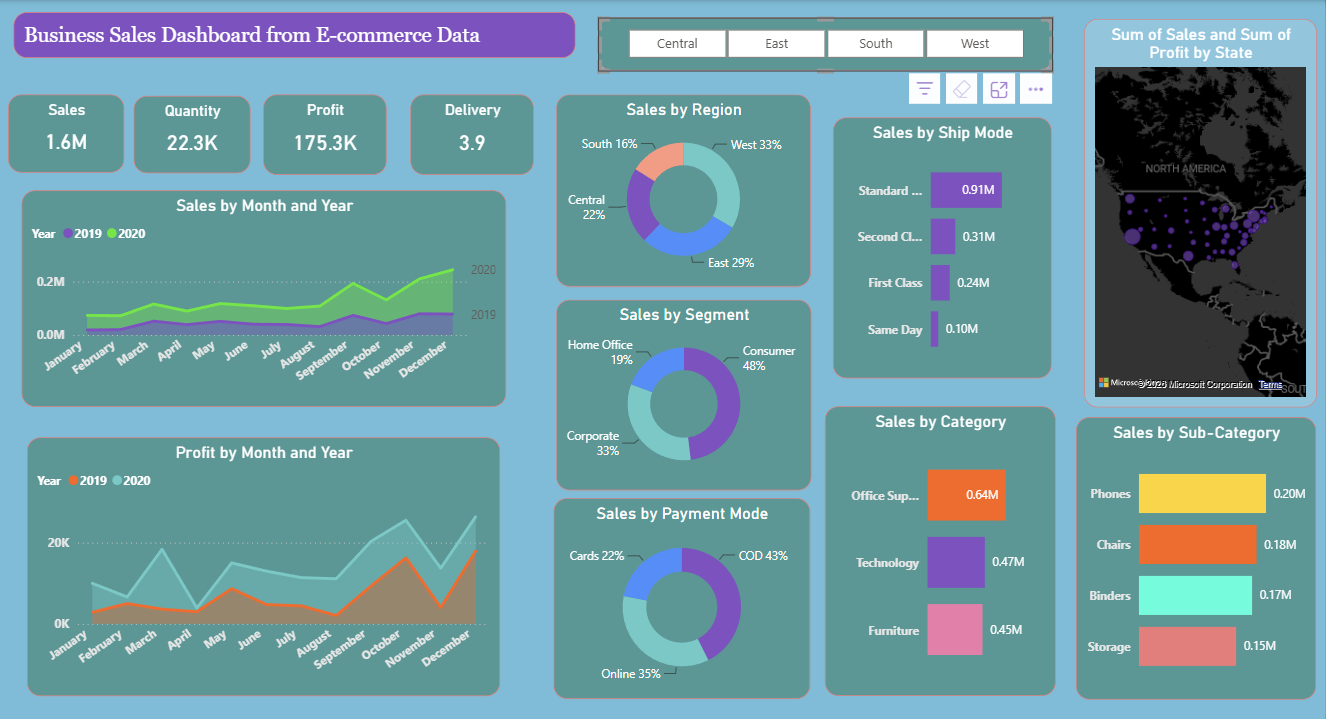

The dashboard page shown, as its layout file describes it:
{"tool":"powerbi","page":{"name":"Page 1","canvas":[1369,747],"ordinal":0},"visuals":[{"type":"clusteredBarChart","title":" Sales by Category","fields":{"Category":["SuperStore_Sales_Dataset.Category"],"Y":["Sum(SuperStore_Sales_Dataset.Sales)"]},"box":[852.5,420.1,238.3,299.3],"z":0},{"type":"clusteredBarChart","title":" Sales by Sub-Category","fields":{"Category":["SuperStore_Sales_Dataset.Sub-Category"],"Y":["Sum(SuperStore_Sales_Dataset.Sales)"]},"box":[1111.9,431.2,248.3,291.5],"z":1000},{"type":"stackedAreaChart","title":" Profit by Month and Year","fields":{"Category":["SuperStore_Sales_Dataset.Order Date.Variation.Date Hierarchy.Month","SuperStore_Sales_Dataset.Order Date.Variation.Date Hierarchy.Day"],"Series":["SuperStore_Sales_Dataset.Order Date.Variation.Date Hierarchy.Year"],"Y":["Sum(SuperStore_Sales_Dataset.Profit)"]},"box":[27.7,452.3,488.9,267.2],"z":2000},{"type":"stackedAreaChart","title":"Sales by Month and Year","fields":{"Y":["Sum(SuperStore_Sales_Dataset.Sales)"],"Category":["SuperStore_Sales_Dataset.Order Date.Variation.Date Hierarchy.Month","SuperStore_Sales_Dataset.Order Date.Variation.Date Hierarchy.Day"],"Series":["SuperStore_Sales_Dataset.Order Date.Variation.Date Hierarchy.Year"]},"box":[22.2,197.3,501.1,223.9],"z":3000},{"type":"map","fields":{"Category":["SuperStore_Sales_Dataset.State"],"Size":["Sum(SuperStore_Sales_Dataset.Sales)"]},"box":[1119.6,18.8,240.6,401.3],"z":4000},{"type":"clusteredBarChart","title":" Sales by Ship Mode","fields":{"Category":["SuperStore_Sales_Dataset.Ship Mode"],"Y":["Sum(SuperStore_Sales_Dataset.Sales)"]},"box":[861.3,120.8,226.1,269.4],"z":5000},{"type":"donutChart","title":" Sales by Segment","fields":{"Category":["SuperStore_Sales_Dataset.Segment"],"Y":["Sum(SuperStore_Sales_Dataset.Sales)"]},"box":[574.2,309.3,263.8,197.3],"z":6000},{"type":"donutChart","title":" Sales by Payment Mode","fields":{"Category":["SuperStore_Sales_Dataset.Payment Mode"],"Y":["Sum(SuperStore_Sales_Dataset.Sales)"]},"box":[572,515.5,264.9,207.3],"z":7000},{"type":"slicer","fields":{"Values":["SuperStore_Sales_Dataset.Region"]},"box":[617.9,18.7,469.6,54.8],"z":8000},{"type":"textbox","box":[13.7,12.5,580.5,47.3],"z":9000},{"type":"card","title":"Sales","fields":{"Values":["Sum(SuperStore_Sales_Dataset.Sales)"]},"box":[8.9,97.6,119.7,80.9],"z":10000},{"type":"card","title":"Profit","fields":{"Values":["Sum(SuperStore_Sales_Dataset.Profit)"]},"box":[272.7,97.6,127.5,83.1],"z":11000},{"type":"card","title":"Quantity","fields":{"Values":["Sum(SuperStore_Sales_Dataset.Quantity)"]},"box":[138.6,98.7,120.8,79.8],"z":12000},{"type":"card","title":"Delivery","fields":{"Values":["Avg(SuperStore_Sales_Dataset.AvgDelivery)"]},"box":[424.6,97.6,127.5,83.1],"z":13000},{"type":"donutChart","title":" Sales by Region","fields":{"Category":["SuperStore_Sales_Dataset.Region"],"Y":["Sum(SuperStore_Sales_Dataset.Sales)"]},"box":[574.2,97.6,262.7,198.4],"z":14000}]}

Visuals, with their boxes in screenshot pixels (x1, y1, x2, y2), scaled from the page's 1369x747 canvas onto the 1326x719 screenshot:
" Sales by Category" clusteredBarChart: x1=826, y1=404, x2=1057, y2=692
" Sales by Sub-Category" clusteredBarChart: x1=1077, y1=415, x2=1317, y2=696
" Profit by Month and Year" stackedAreaChart: x1=27, y1=435, x2=500, y2=693
"Sales by Month and Year" stackedAreaChart: x1=22, y1=190, x2=507, y2=405
map - SuperStore_Sales_Dataset.State x Sum(SuperStore_Sales_Dataset.Sales): x1=1084, y1=18, x2=1317, y2=404
" Sales by Ship Mode" clusteredBarChart: x1=834, y1=116, x2=1053, y2=376
" Sales by Segment" donutChart: x1=556, y1=298, x2=812, y2=488
" Sales by Payment Mode" donutChart: x1=554, y1=496, x2=811, y2=696
slicer - SuperStore_Sales_Dataset.Region: x1=598, y1=18, x2=1053, y2=71
textbox: x1=13, y1=12, x2=576, y2=58
"Sales" card: x1=9, y1=94, x2=125, y2=172
"Profit" card: x1=264, y1=94, x2=388, y2=174
"Quantity" card: x1=134, y1=95, x2=251, y2=172
"Delivery" card: x1=411, y1=94, x2=535, y2=174
" Sales by Region" donutChart: x1=556, y1=94, x2=811, y2=285
